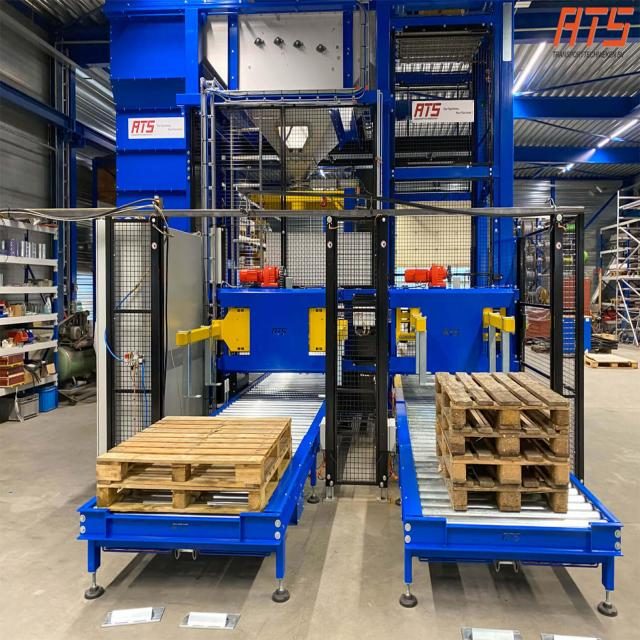block: (96, 457, 125, 484), (236, 459, 265, 484), (497, 485, 524, 510), (499, 401, 523, 429), (448, 486, 472, 512), (497, 435, 524, 458), (502, 460, 524, 486), (446, 401, 468, 426), (170, 459, 190, 486), (552, 400, 572, 427), (553, 461, 574, 486), (450, 460, 470, 486), (172, 491, 192, 516), (95, 483, 112, 512), (553, 435, 574, 458), (450, 432, 468, 458), (552, 486, 570, 512), (247, 491, 268, 512)
front: (95, 482, 272, 519), (92, 451, 270, 487), (445, 458, 572, 490), (451, 483, 570, 517), (446, 427, 574, 458), (446, 397, 570, 426)
